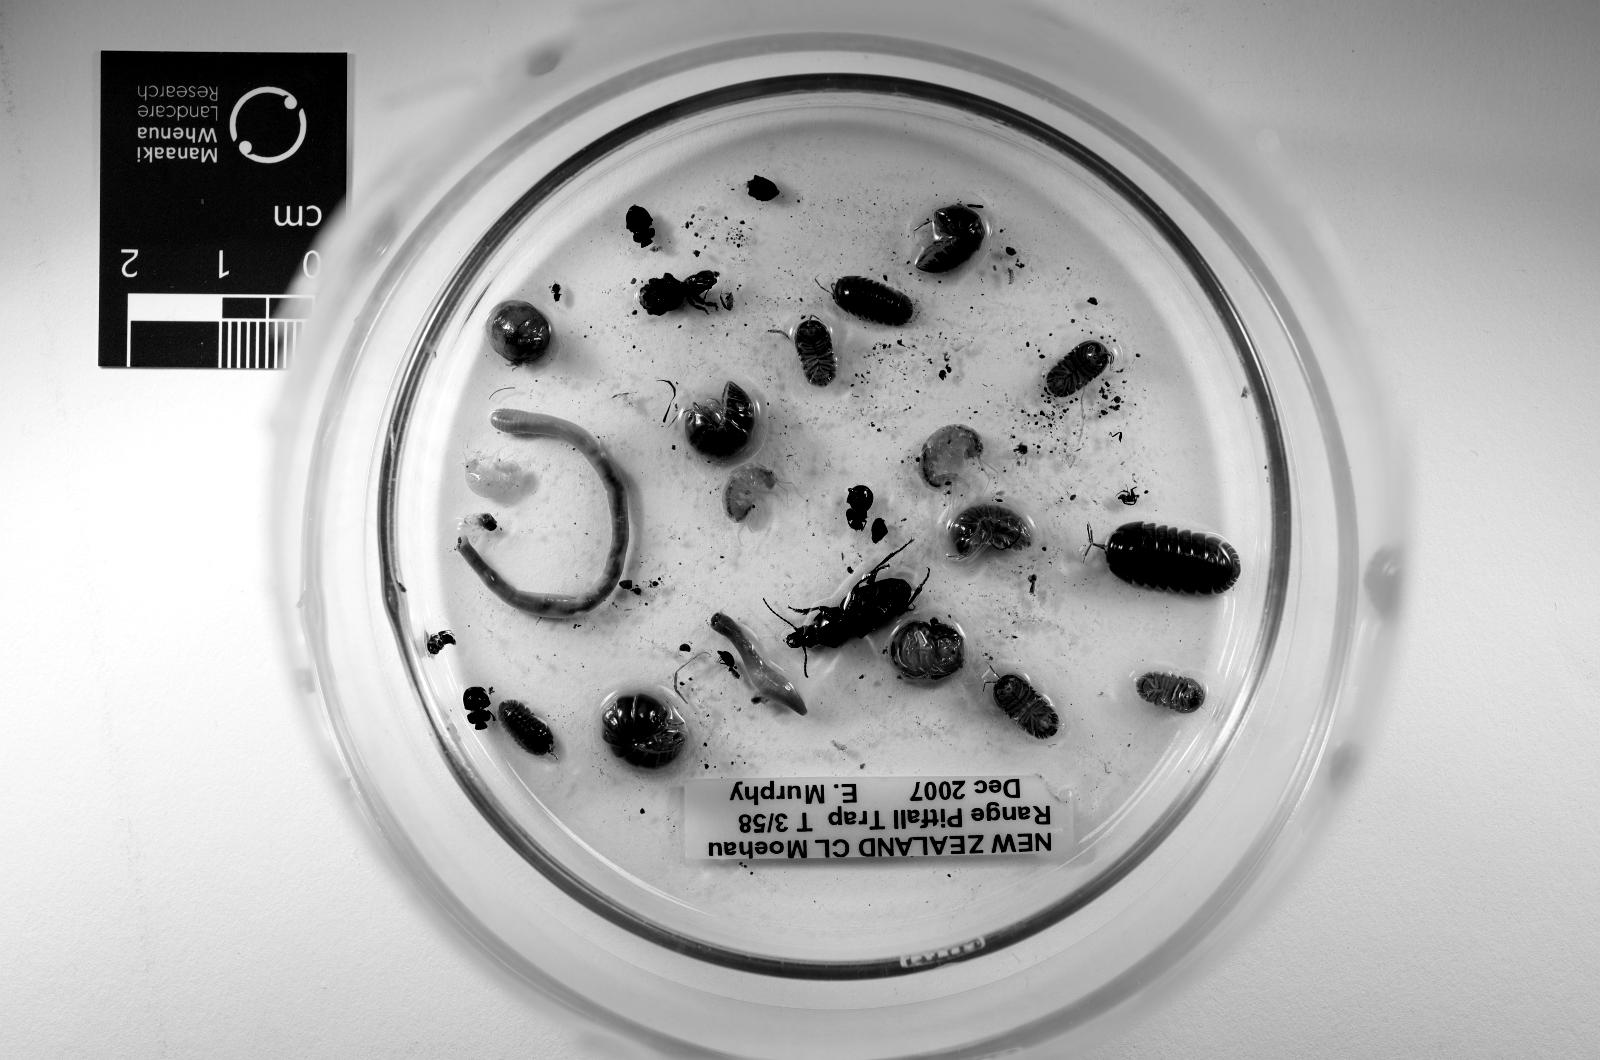amphipoda: (721, 463, 788, 525), (919, 426, 982, 491), (466, 459, 522, 500)
annelida: (459, 409, 628, 618)
carabidae: (784, 558, 925, 677)
coleoptera: (641, 270, 719, 317), (462, 686, 494, 730), (847, 485, 875, 531), (626, 205, 656, 245), (719, 649, 734, 667)
diptera: (550, 283, 563, 302)
isopoda: (1103, 522, 1241, 596), (603, 692, 685, 767), (685, 382, 757, 459), (913, 205, 987, 273), (993, 674, 1060, 739), (950, 506, 1031, 558), (831, 277, 913, 327), (1047, 342, 1109, 397), (497, 699, 553, 755), (793, 317, 837, 388), (1138, 674, 1206, 715)
